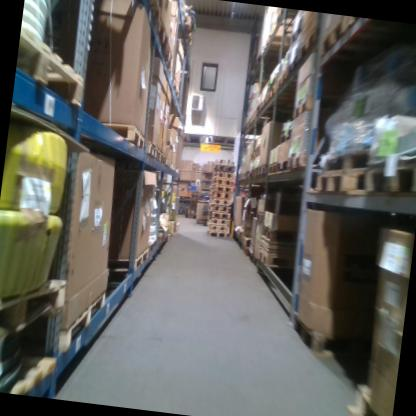pallet: (0, 263, 69, 360), (13, 24, 91, 109), (58, 282, 107, 358), (359, 150, 416, 204), (292, 315, 357, 356), (0, 349, 55, 397), (92, 119, 147, 152), (313, 162, 359, 201), (105, 239, 150, 276), (351, 379, 396, 416), (322, 146, 376, 175), (320, 15, 348, 61), (297, 22, 321, 71), (132, 0, 165, 32), (255, 248, 296, 272), (260, 224, 299, 246), (153, 21, 169, 61), (289, 93, 309, 119), (162, 43, 174, 81), (286, 149, 305, 170), (288, 51, 301, 81), (277, 64, 288, 99), (142, 139, 158, 160), (210, 175, 234, 188), (264, 81, 276, 106), (169, 75, 181, 98), (213, 161, 235, 172), (347, 17, 367, 29), (209, 190, 230, 201), (207, 210, 230, 219), (276, 156, 288, 173), (206, 217, 231, 225), (208, 203, 230, 212), (208, 223, 230, 232), (207, 229, 229, 238), (254, 214, 267, 229), (147, 237, 157, 256), (212, 170, 235, 178), (208, 198, 231, 206), (209, 185, 231, 193), (256, 161, 267, 176), (154, 146, 162, 164), (268, 160, 278, 173), (159, 150, 165, 165), (163, 156, 170, 168)
pallet_truck: (184, 180, 194, 219)
